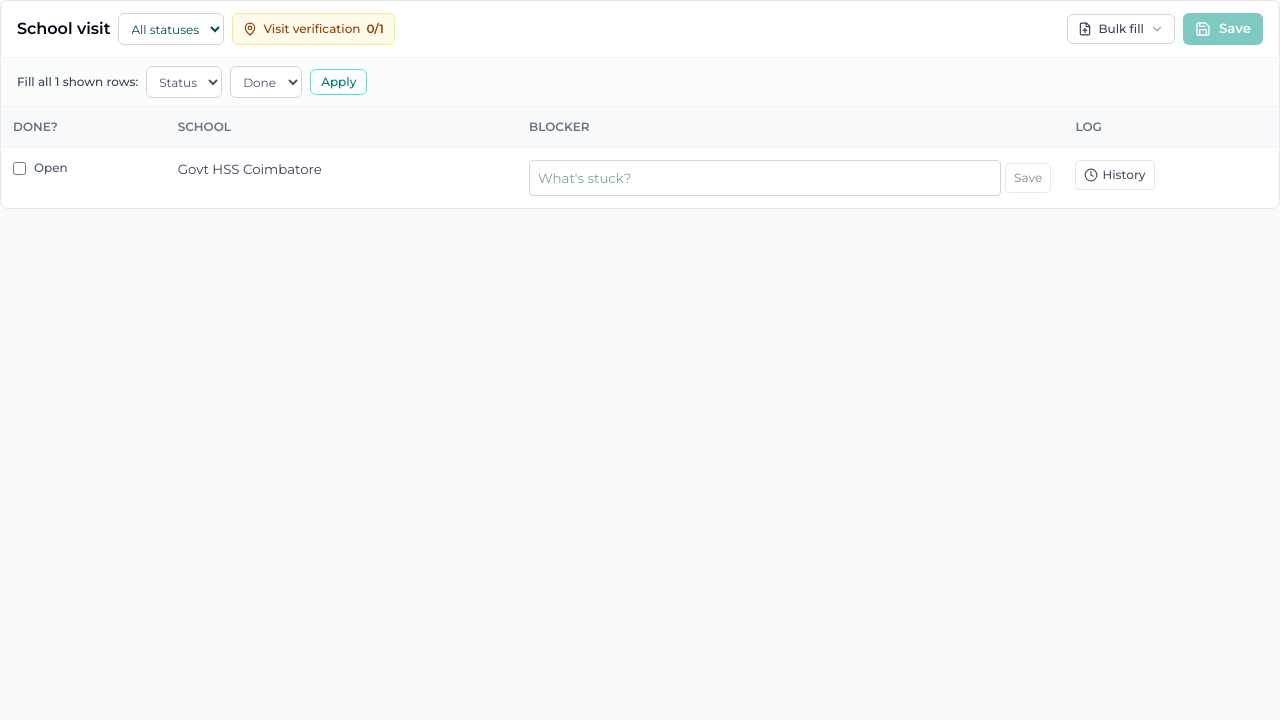
Test: tracker grid — the visit-verification gate › puts a verification chip in the toolbar that opens the modal
The width and height of the screenshot is (1280, 720).
Click the button "Visit verification 0/1": [314, 29] box [232,13,395,45]
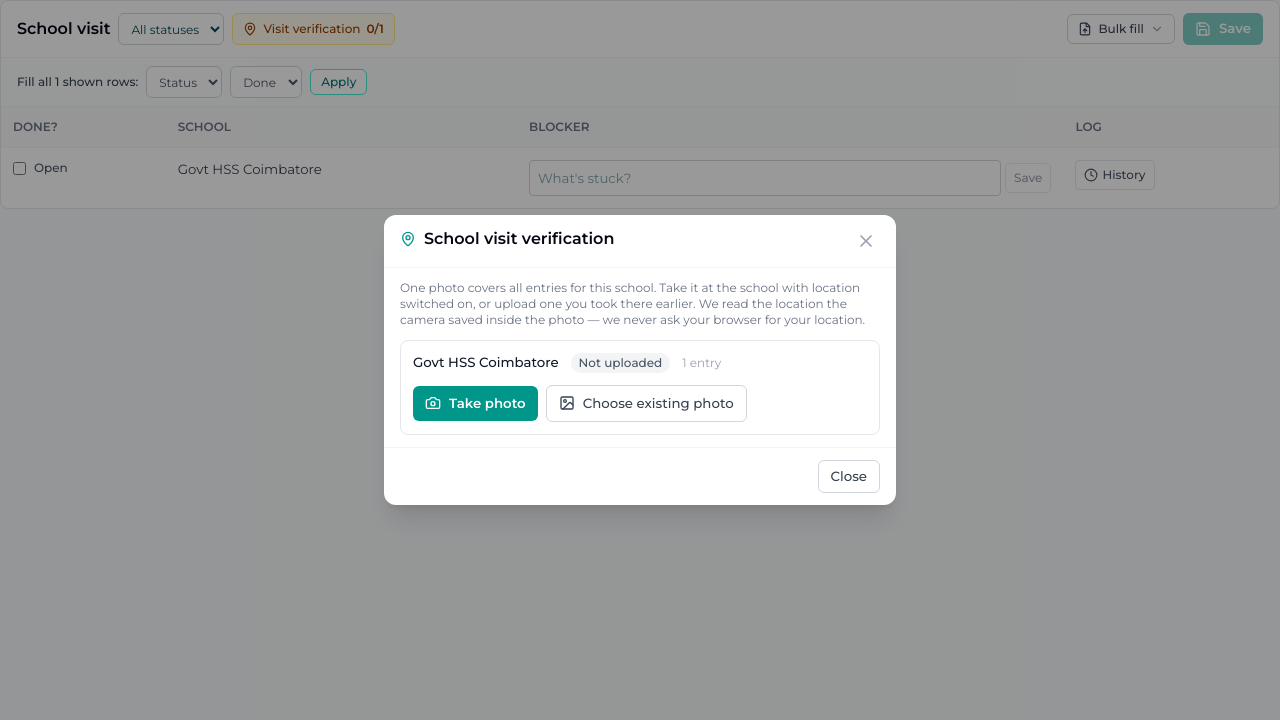
Now the dialog "School visit verification" is shown, box [384,215,896,505]
